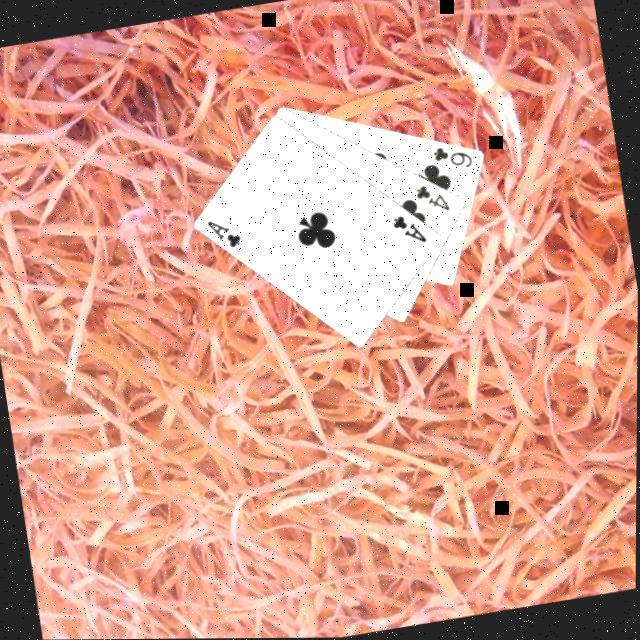4C: (412, 178, 455, 220)
6C: (430, 140, 478, 178)
AC: (204, 213, 247, 256), (389, 209, 432, 251)
